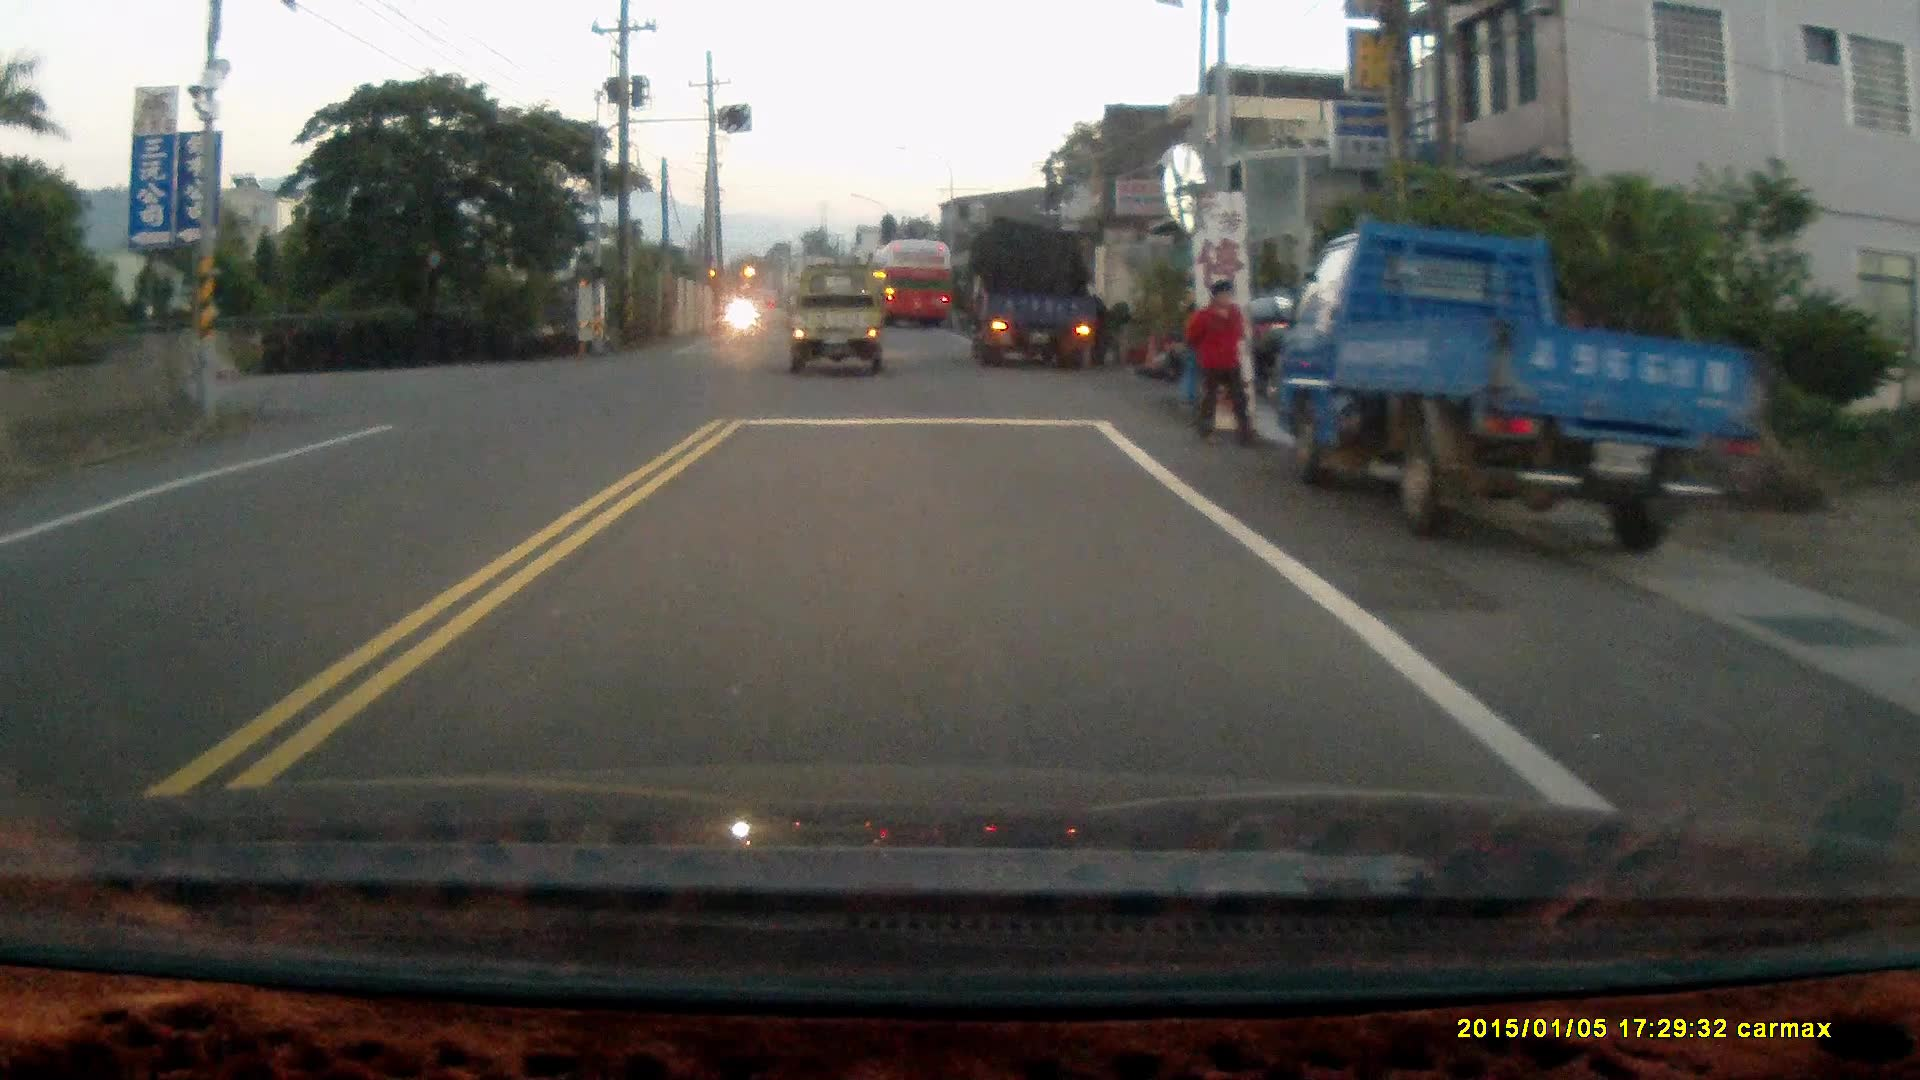pedestrian: (1182, 275, 1259, 452)
rider: (728, 279, 756, 338)
vehicle: (1277, 218, 1762, 552), (970, 221, 1114, 378), (792, 264, 889, 379), (868, 237, 957, 326)
